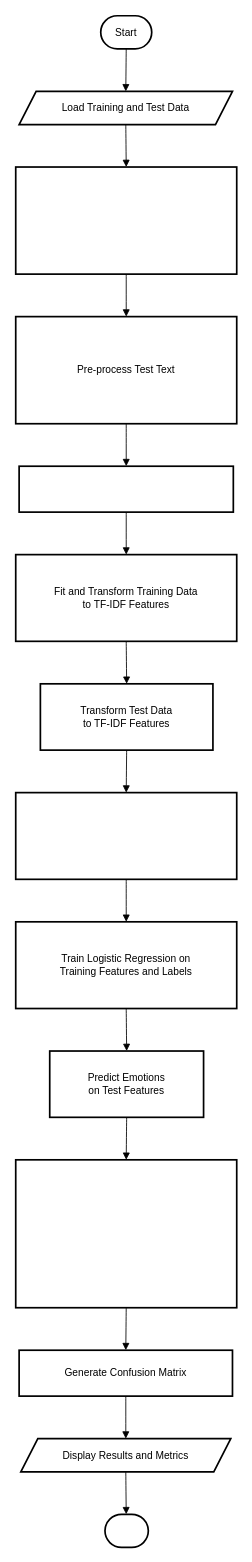
The diagram is 252 pixels wide and 1562 high, and some of its shapes have lost their labels. Here are the shapes that lost their labels. From the top down, the centre of each, then its label:
[125,220]: Pre-process Training Text
[126,489]: Initialize TF-IDF Vectorizer
[125,835]: Initialize Logistic Regression Classifier for Multi-Class
[125,1233]: Calculate Evaluation Metrics: - Accuracy - Precision - Recall - F1-Score
[126,1530]: End
